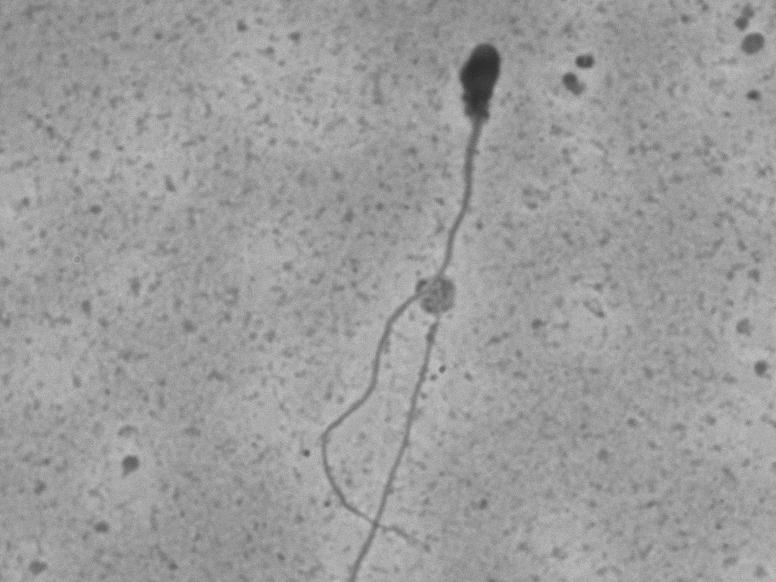Abnormal: (392, 37, 521, 558)
